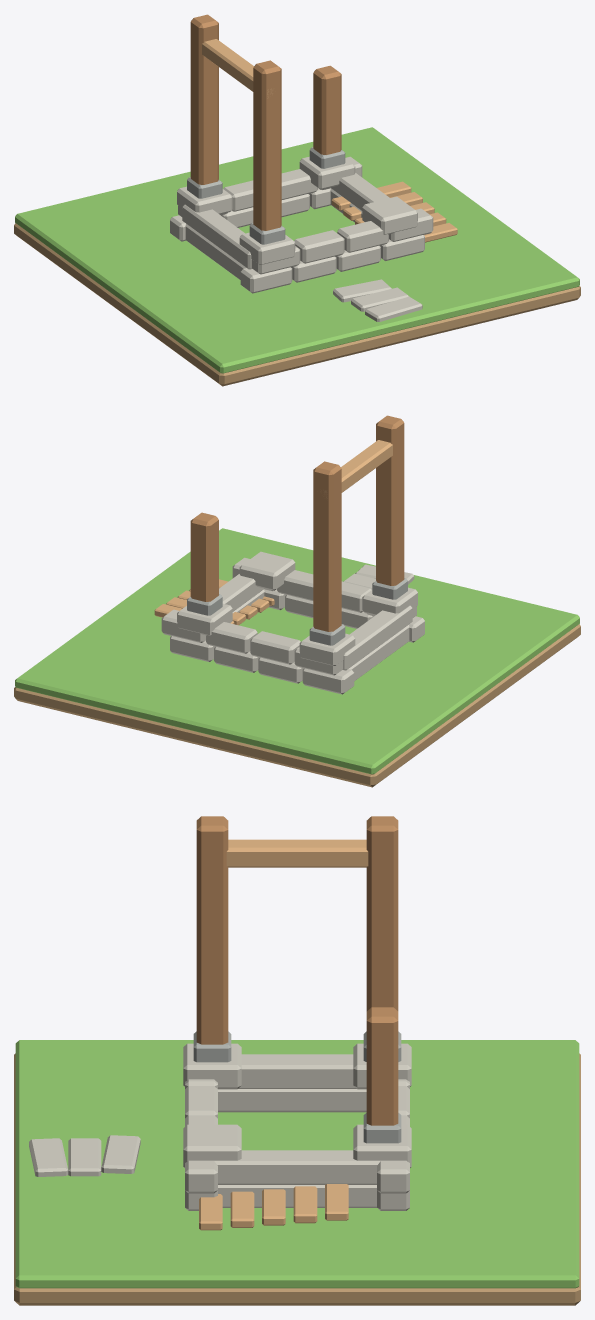
File: tower_l02_construction.glb
3 renders of one model, top to bottom at view 1: azimuth 30°, elevation 25°; view 2: azimuth 150°, elevation 25°; view 3: azimuth 270°, elevation 25°, orthographic. The views are drawn at different scales.
Visible parts, largest first — view 1: tower_l02_grass_tile, tower_l02_earth_tile, post_-0.61_-0.54, post_-0.61_0.54, post_0.61_0.54, stone_return_1_-0.72, foot_0.61_-0.54, temporary_crossbar, stone_course_1_-1_1, stone_course_1_-1_2, foot_-0.61_-0.54, stone_return_1_0.72 (+19 smaller); view 2: tower_l02_grass_tile, tower_l02_earth_tile, post_-0.61_0.54, post_-0.61_-0.54, post_0.61_0.54, stone_return_1_-0.72, foot_0.61_-0.54, temporary_crossbar, stone_course_1_1_1, stone_course_1_1_2, foot_-0.61_0.54, foot_0.61_0.54 (+15 smaller); view 3: tower_l02_grass_tile, tower_l02_earth_tile, post_-0.61_-0.54, post_-0.61_0.54, stone_return_1_0.72, temporary_crossbar, stone_return_1_-0.72, post_0.61_0.54, stone_return_0_-0.72, foot_0.61_-0.54, stone_return_0_0.72, foot_-0.61_-0.54 (+15 smaller).
Part boxes in pixels (x1=…): tower_l02_grass_tile: x1=15, y1=127, x2=579, y2=373; tower_l02_earth_tile: x1=14, y1=223, x2=580, y2=386; post_-0.61_-0.54: x1=253, y1=60, x2=281, y2=230; post_-0.61_0.54: x1=190, y1=14, x2=218, y2=184; post_0.61_0.54: x1=313, y1=65, x2=341, y2=154; stone_return_1_-0.72: x1=182, y1=204, x2=252, y2=269; foot_0.61_-0.54: x1=362, y1=196, x2=417, y2=234; temporary_crossbar: x1=202, y1=39, x2=272, y2=98; stone_course_1_-1_1: x1=294, y1=230, x2=344, y2=263; stone_course_1_-1_2: x1=337, y1=221, x2=388, y2=252; foot_-0.61_-0.54: x1=239, y1=232, x2=295, y2=264; stone_return_1_0.72: x1=330, y1=173, x2=389, y2=210; tower_l02_grass_tile: x1=15, y1=528, x2=579, y2=774; tower_l02_earth_tile: x1=14, y1=624, x2=580, y2=787; post_-0.61_0.54: x1=313, y1=461, x2=341, y2=631; post_-0.61_-0.54: x1=376, y1=415, x2=404, y2=585; post_0.61_0.54: x1=190, y1=512, x2=218, y2=601; stone_return_1_-0.72: x1=342, y1=605, x2=412, y2=670; foot_0.61_-0.54: x1=239, y1=551, x2=295, y2=590; temporary_crossbar: x1=320, y1=440, x2=392, y2=498; stone_course_1_1_1: x1=250, y1=631, x2=300, y2=664; stone_course_1_1_2: x1=206, y1=622, x2=257, y2=653; foot_-0.61_0.54: x1=299, y1=633, x2=355, y2=665; foot_0.61_0.54: x1=177, y1=603, x2=232, y2=635; tower_l02_grass_tile: x1=15, y1=1040, x2=579, y2=1288; tower_l02_earth_tile: x1=14, y1=1053, x2=580, y2=1305; post_-0.61_-0.54: x1=196, y1=816, x2=228, y2=1044; post_-0.61_0.54: x1=366, y1=816, x2=398, y2=1011; stone_return_1_0.72: x1=209, y1=1150, x2=385, y2=1184; temporary_crossbar: x1=226, y1=839, x2=368, y2=867; stone_return_1_-0.72: x1=238, y1=1054, x2=356, y2=1088; post_0.61_0.54: x1=366, y1=1007, x2=398, y2=1125; stone_return_0_-0.72: x1=218, y1=1089, x2=366, y2=1112; foot_0.61_-0.54: x1=183, y1=1124, x2=241, y2=1167; stone_return_0_0.72: x1=218, y1=1185, x2=376, y2=1207; foot_-0.61_-0.54: x1=183, y1=1043, x2=241, y2=1089.
Size of the model in its own units: 3.6 by 2.29 by 3.6.
